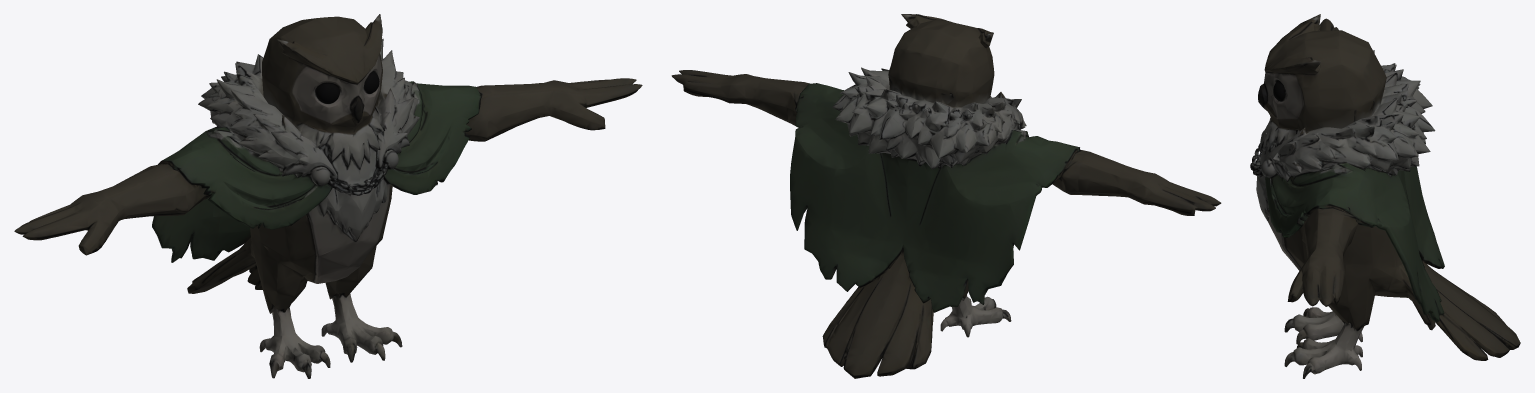
File: buho.fbx
The picture shows the model from 3 angles, left to right: view 1: azimuth 30°, elevation 25°; view 2: azimuth 150°, elevation 25°; view 3: azimuth 270°, elevation 25°; orthographic projection. The views are drawn at different scales.
Visible parts, largest first — view 1: node_0; view 2: node_0; view 3: node_0.
Boxes of the visible parts, bbox=[...] form: node_0: bbox=[14, 14, 642, 378]; node_0: bbox=[671, 14, 1221, 378]; node_0: bbox=[1250, 14, 1520, 378].
Size of the model in its own units: 117 by 59.61 by 46.69.
1 material, 1 textured.
